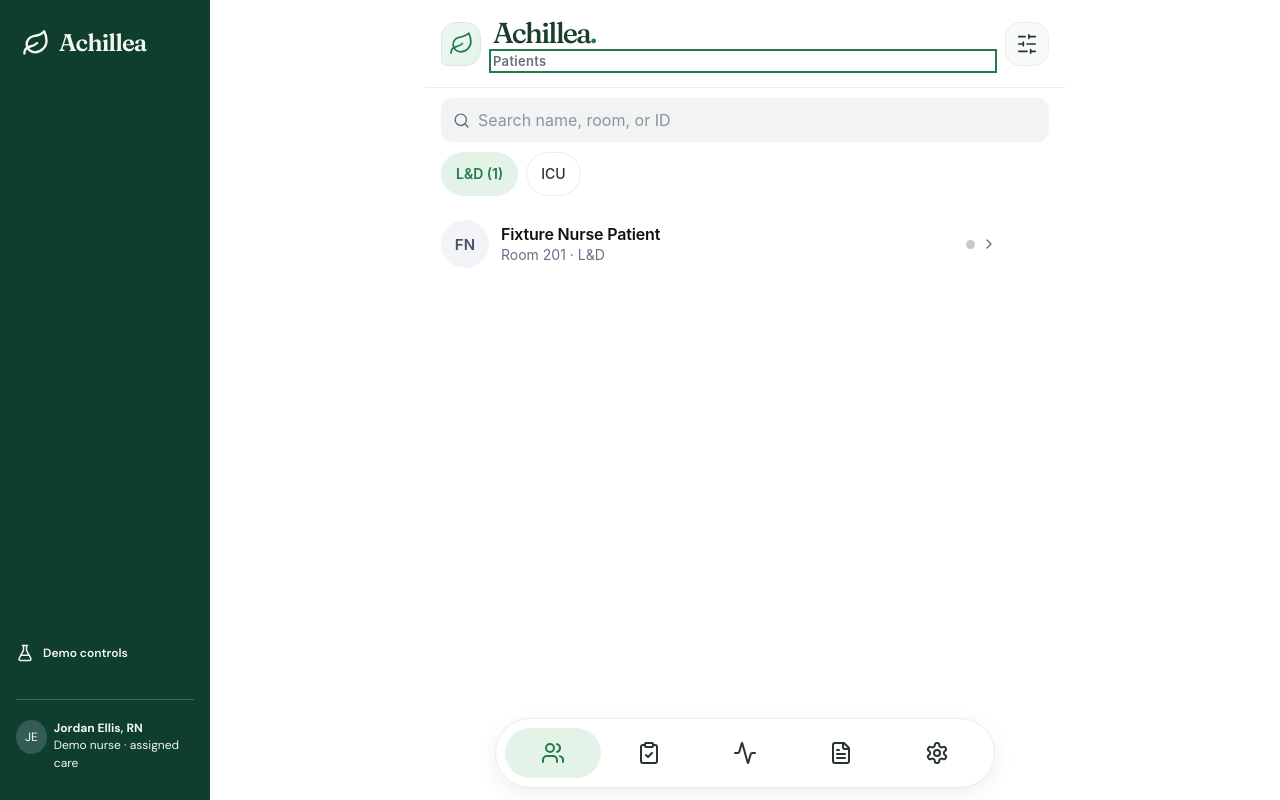
Test: switches patient-unit pills through existing APIs while retaining the Patients route
The width and height of the screenshot is (1280, 800).
Expected: the heading "Fixture Nurse Patient" is shown, [501, 224, 660, 244]
Click the button "ICU". click: [553, 174]
box: [526, 152, 581, 196]
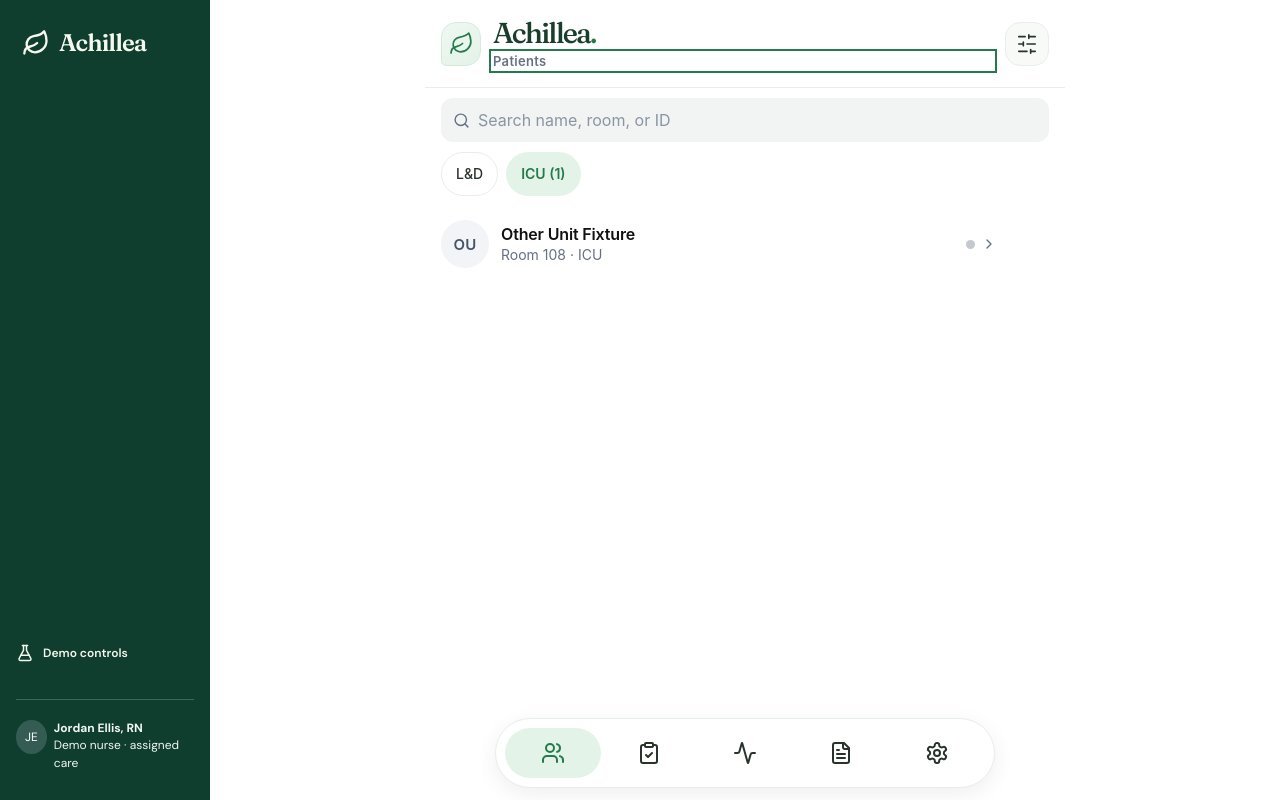
Expected: the heading "Patients" is shown, [493, 53, 547, 69]
Result: the heading "Other Unit Fixture" is shown at [501, 224, 635, 244]
Result: the link "Fixture Nurse Patient" is gone
Click the button "L&D". click: [470, 174]
box: [441, 152, 498, 196]
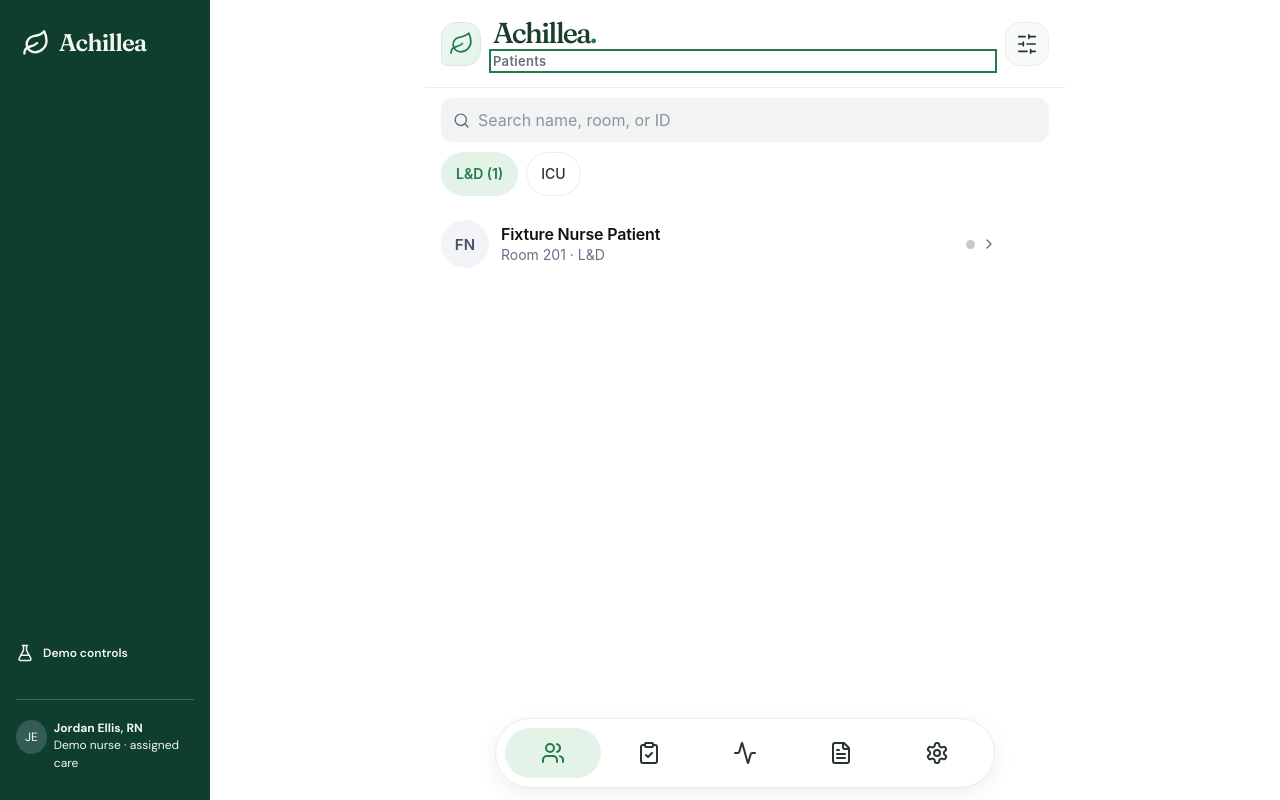
Result: the heading "Fixture Nurse Patient" is shown at [501, 224, 660, 244]
